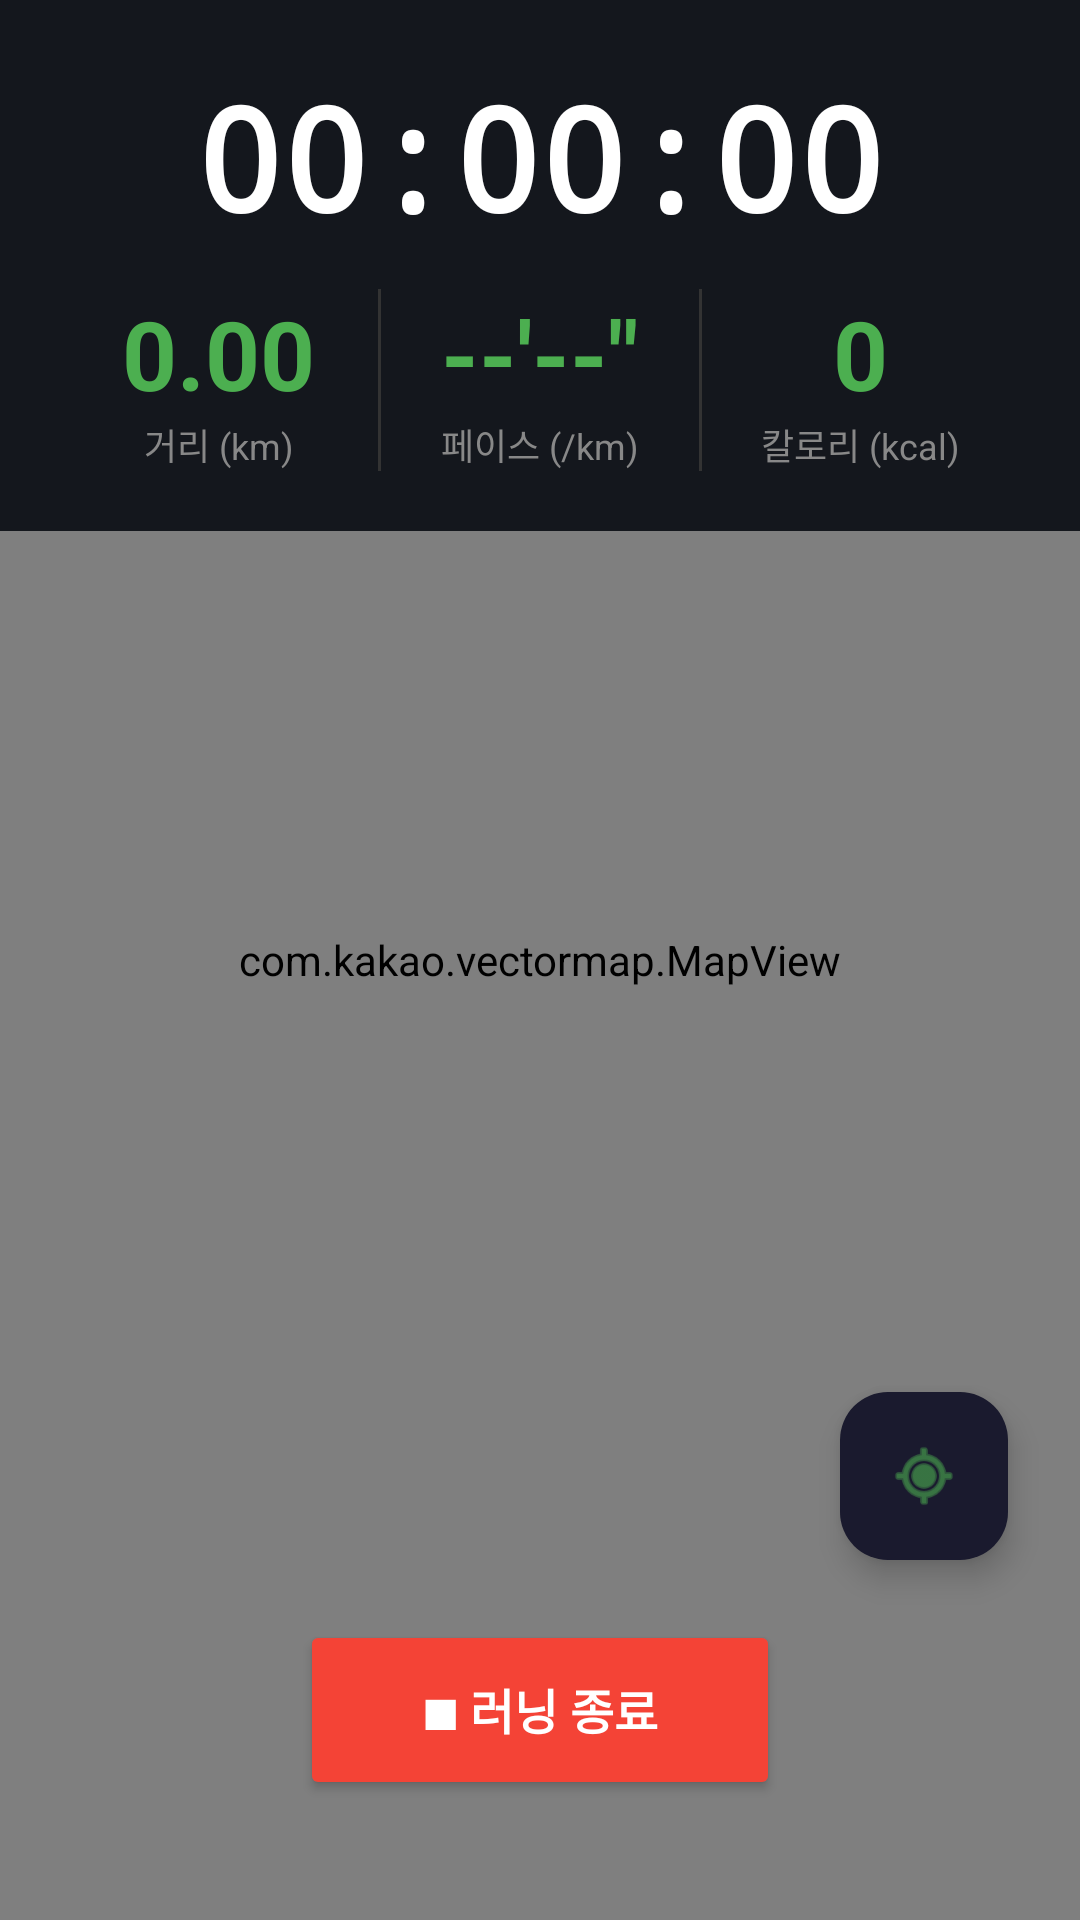

Locate icon controls on the screen. Image size 1080×1920, boxes as (left=x1, top=y1, right=x2, bottom=y2).
내 위치: (left=840, top=1392, right=1008, bottom=1560)
